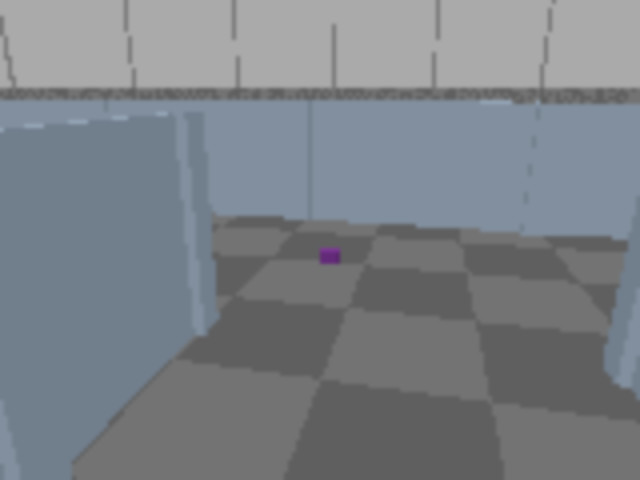puck: (321, 246, 340, 263)
